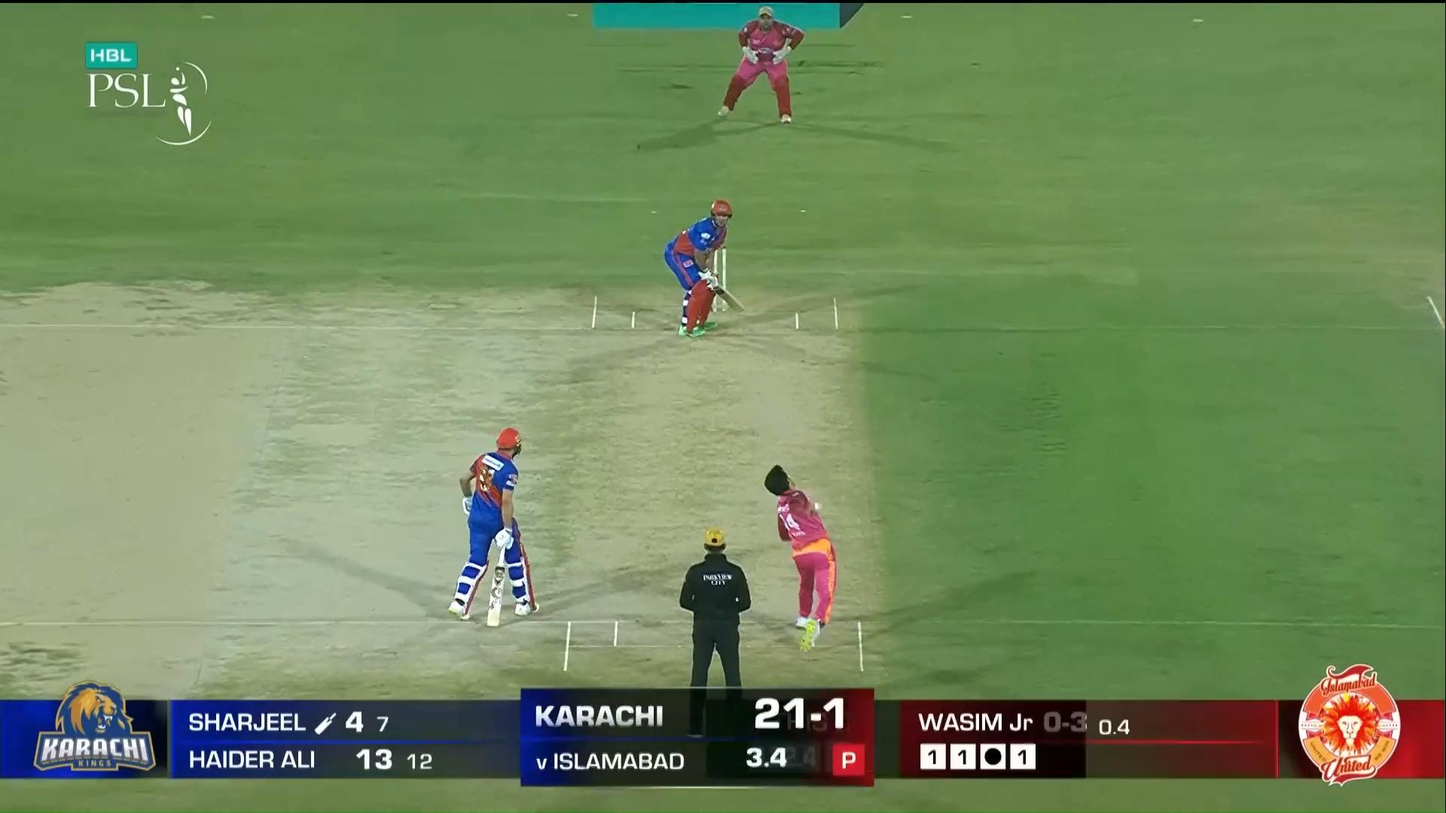batsman: (663, 199, 745, 338)
